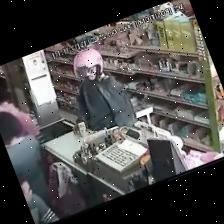person: (73, 49, 134, 131), (0, 112, 51, 207), (0, 76, 39, 136), (17, 176, 57, 223)
